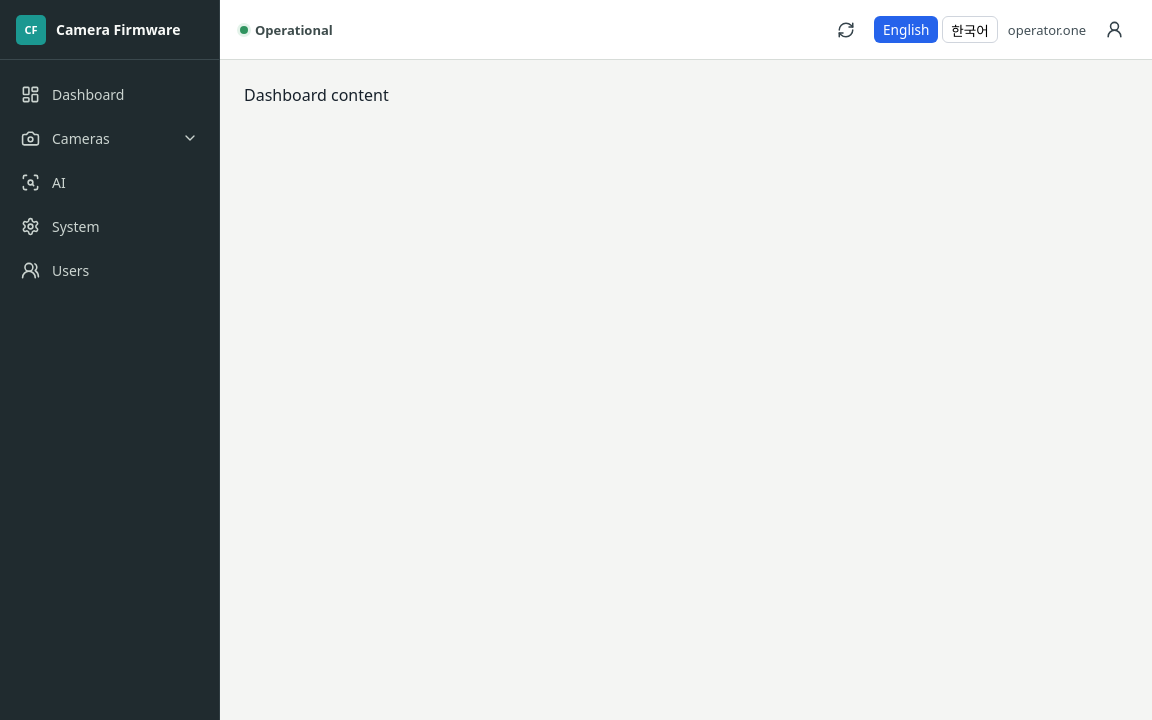
Test: AppShell › expands the Cameras sub-tree into Camera, Sub-stream, and OSD links
Expected: the link "Sub-stream" is not shown
Click the button "Cameras" at (110, 138), box [10,118,209,158]
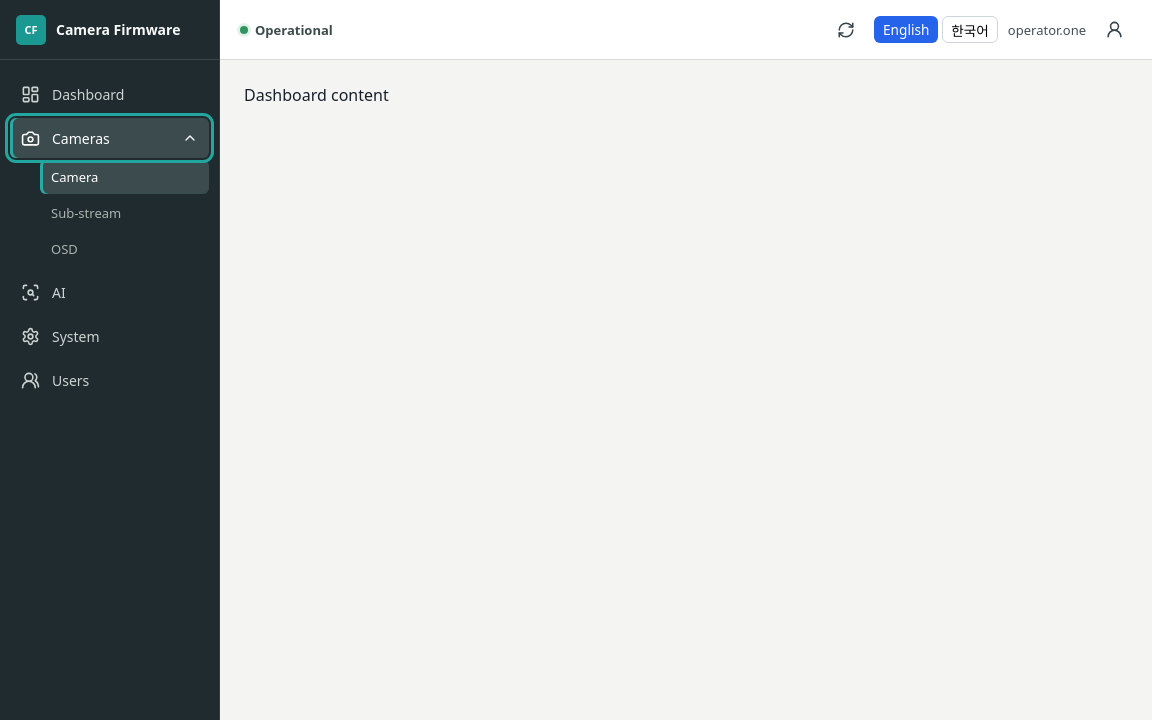
Expected: the button "Cameras" is expanded, [10,118,209,158]
